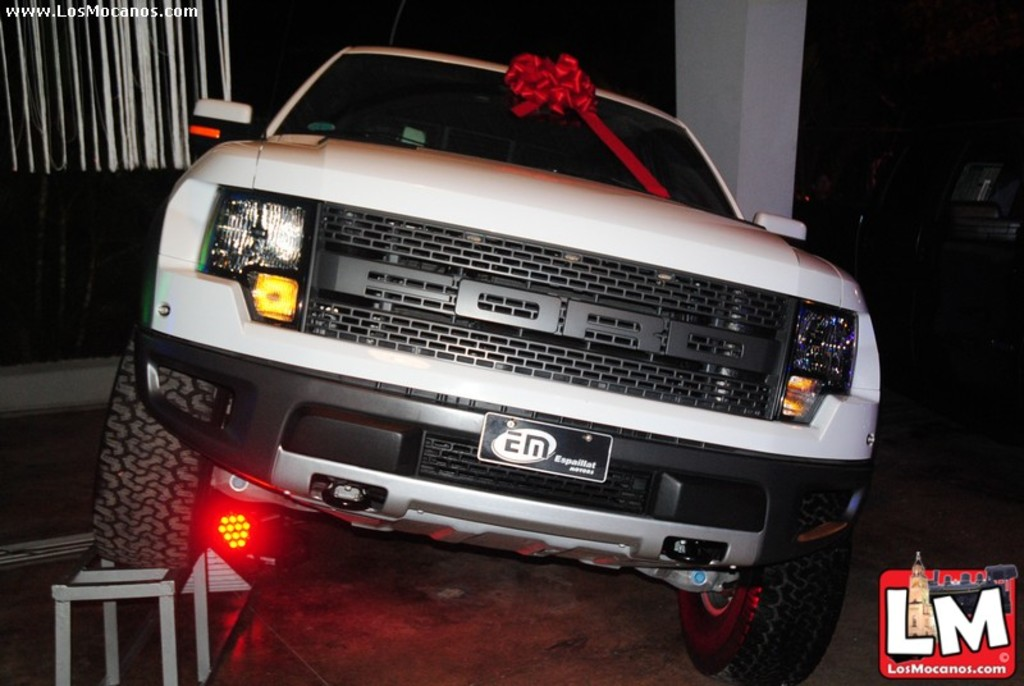Car: (89, 49, 889, 684)
